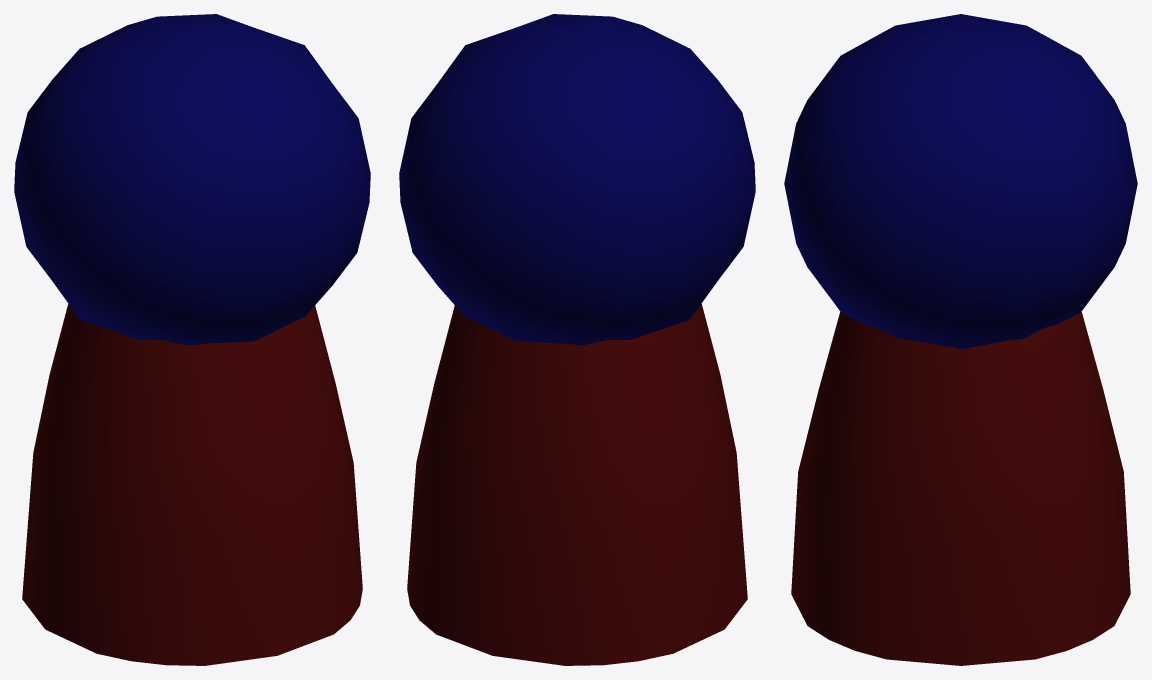
Rendered from player_dummy.fbx.
The picture shows the model from 3 angles, left to right: view 1: azimuth 30°, elevation 25°; view 2: azimuth 150°, elevation 25°; view 3: azimuth 270°, elevation 25°; orthographic projection.
Visible parts, largest first — view 1: player_dummy; view 2: player_dummy; view 3: player_dummy.
Boxes of the visible parts, x1,y1,x2,y2 form: player_dummy: [14, 14, 370, 665]; player_dummy: [399, 14, 755, 665]; player_dummy: [784, 14, 1137, 665].
Size of the model in its own units: 62.41 by 109 by 62.41.
